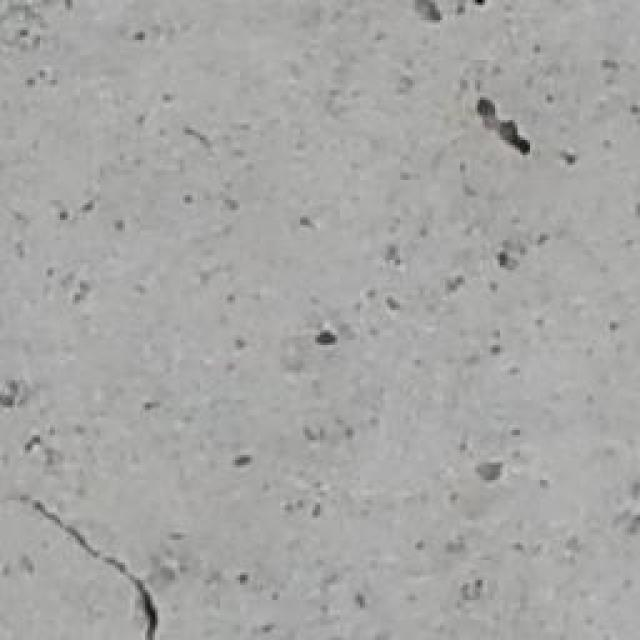concrete-crack: (3, 489, 171, 640), (482, 98, 530, 155), (415, 0, 442, 20)
